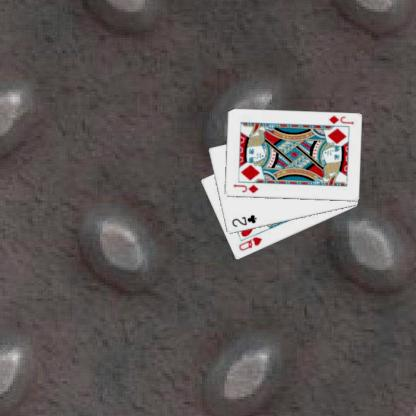2C: (229, 212, 258, 228)
JD: (231, 181, 260, 195), (326, 113, 354, 126)
QH: (236, 234, 263, 253)
